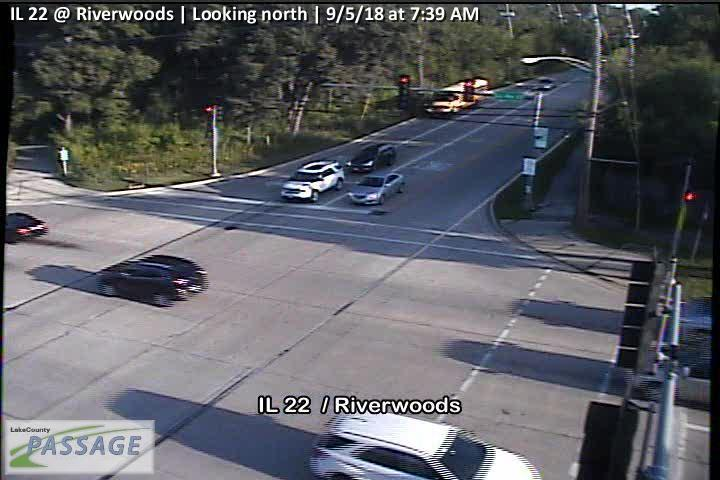Bus: (424, 79, 490, 119)
SUV: (311, 414, 541, 480), (280, 160, 345, 204), (346, 143, 397, 174)
Sedan: (95, 254, 209, 308), (346, 172, 407, 206), (1, 210, 49, 244)
